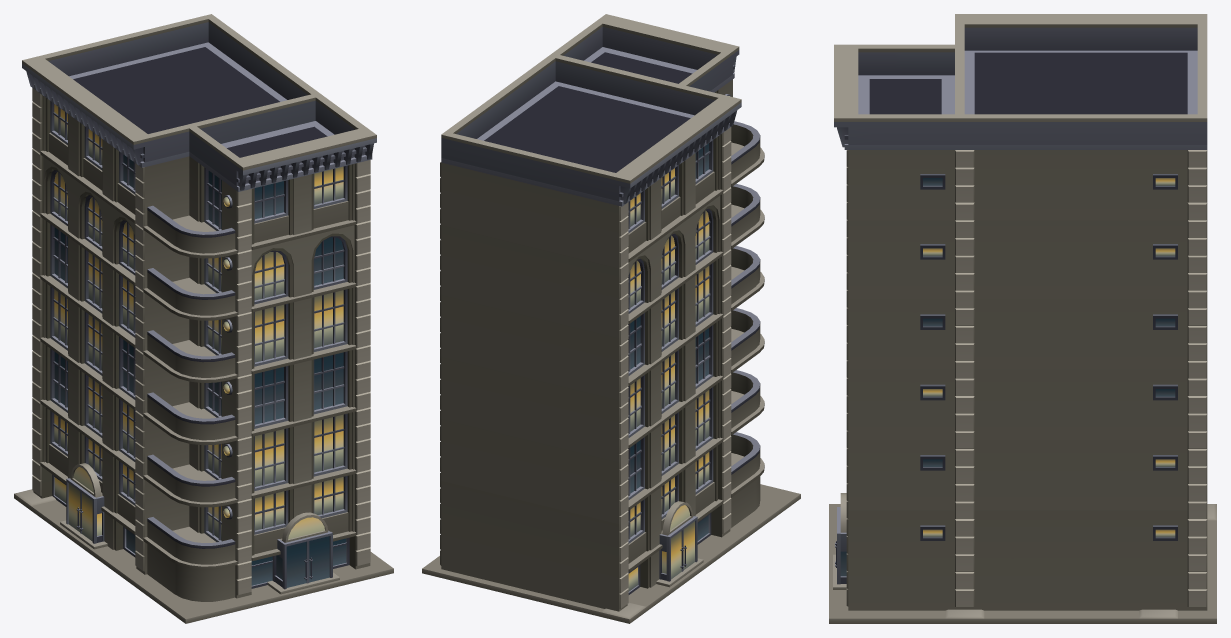
The model's file is Building_16B.fbx.
3 renders of one model, left to right at view 1: azimuth 30°, elevation 25°; view 2: azimuth 150°, elevation 25°; view 3: azimuth 270°, elevation 25°, orthographic. The views are drawn at different scales.
Visible parts, largest first — view 1: Building_16B, Window_Lights_16B; view 2: Building_16B, Window_Lights_16B; view 3: Building_16B, Window_Lights_16B.
Boxes of the visible parts, x1=… form: Building_16B: x1=14, y1=14, x2=393, y2=623; Window_Lights_16B: x1=54, y1=104, x2=343, y2=541; Building_16B: x1=422, y1=14, x2=800, y2=623; Window_Lights_16B: x1=628, y1=168, x2=709, y2=591; Building_16B: x1=829, y1=14, x2=1216, y2=623; Window_Lights_16B: x1=923, y1=178, x2=1175, y2=537.
Size of the model in its own units: 1400 by 2830 by 2000.
